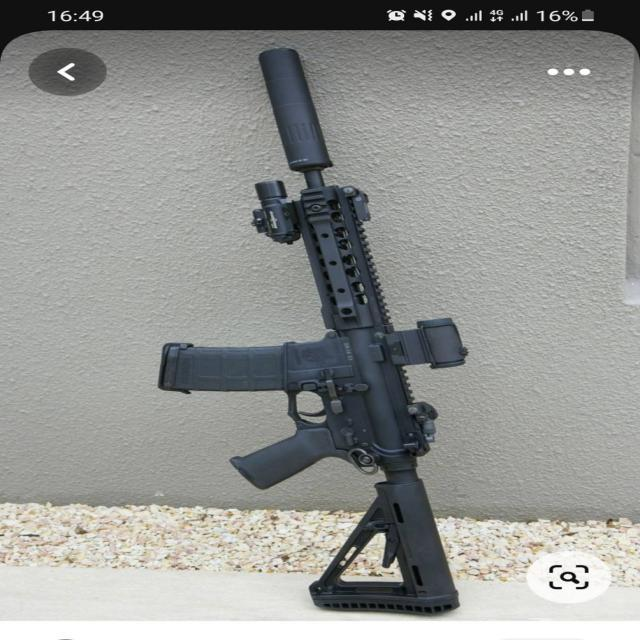m16: (130, 29, 510, 618)
